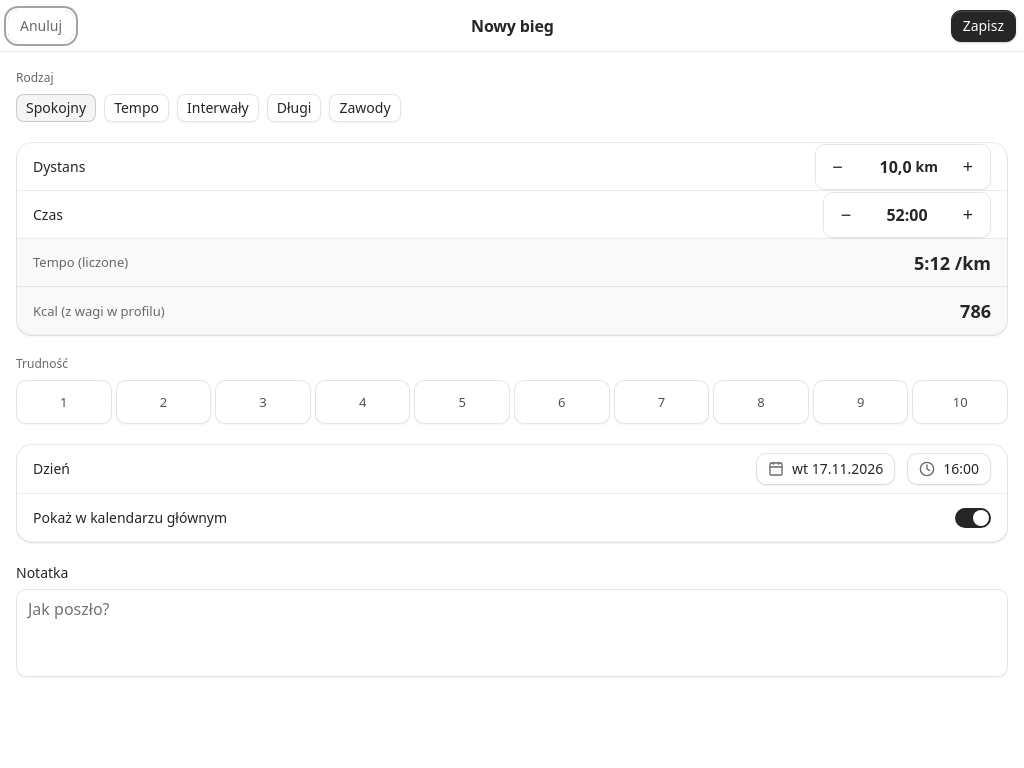
MRunNew › zły zapis dystansu zatrzymuje zapis z komunikatem
The image size is (1024, 768).
Replace the text in the field named "Dystans (km)" with "dużo" at (886, 166), box [860, 144, 912, 188]
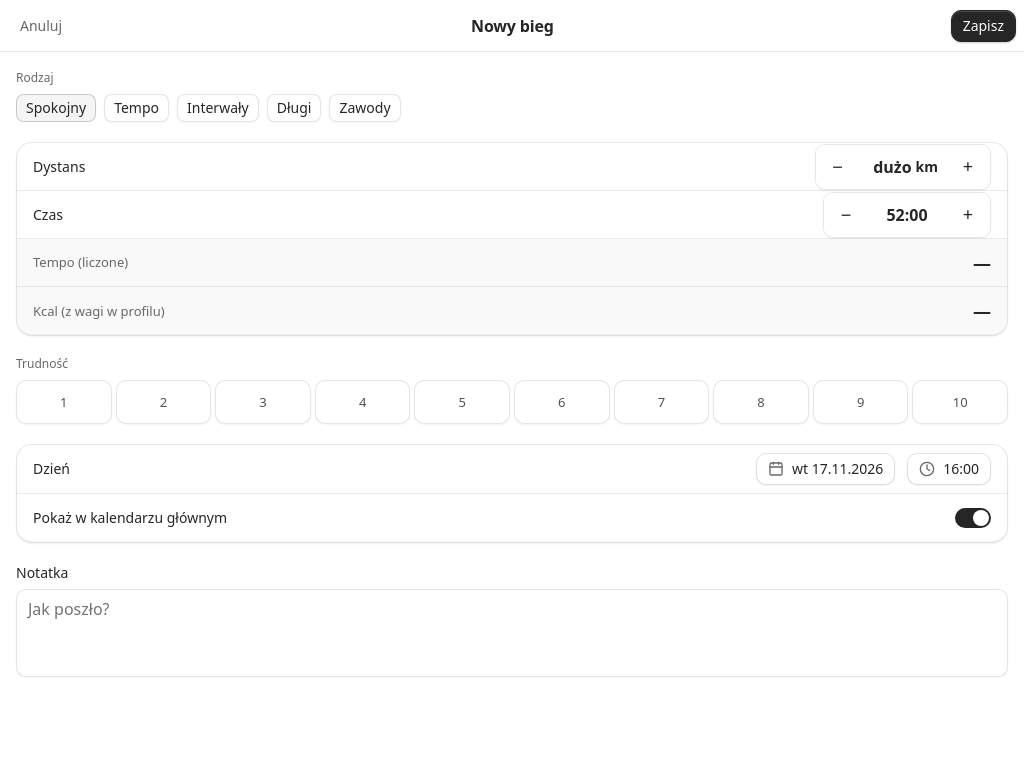
Click the button "Zapisz" at (983, 26), box [951, 10, 1016, 42]
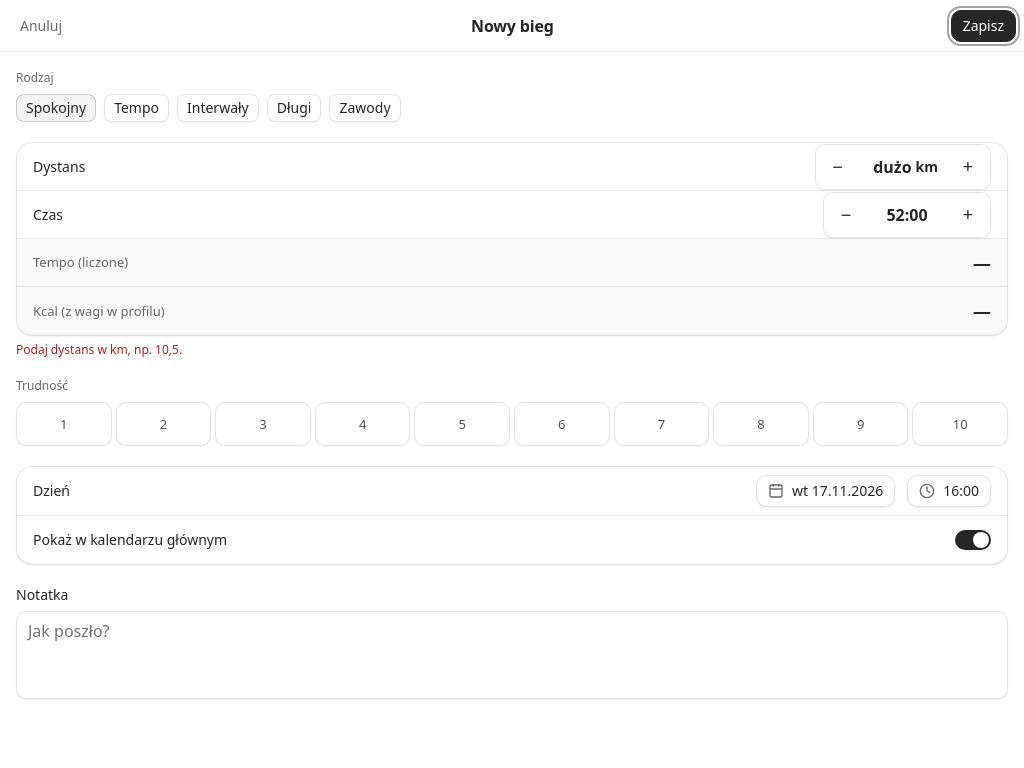
Expected: the text "Podaj dystans w km, np. 10,5." is shown, [16, 341, 182, 358]
